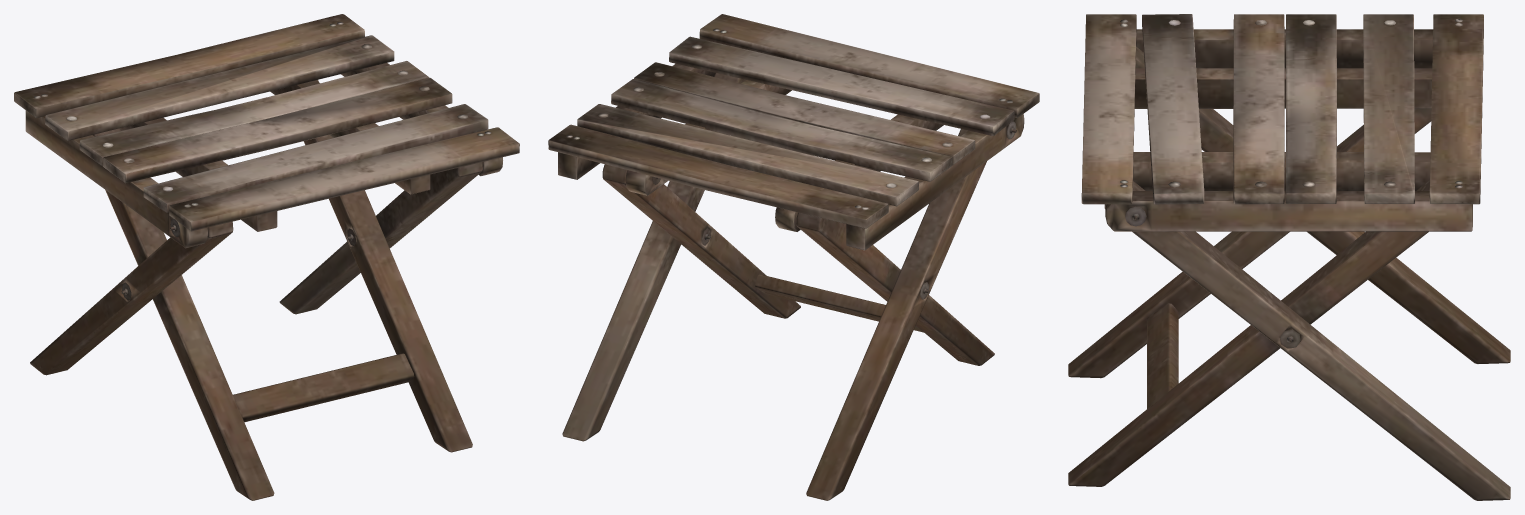
The model's file is folding_wooden_stool.glb.
3 renders of one model, left to right at view 1: azimuth 30°, elevation 25°; view 2: azimuth 150°, elevation 25°; view 3: azimuth 270°, elevation 25°, orthographic. The views are drawn at different scales.
Visible parts, largest first — view 1: folding_wooden_stool; view 2: folding_wooden_stool; view 3: folding_wooden_stool.
Part boxes in pixels (x1=…): folding_wooden_stool: x1=14, y1=14, x2=519, y2=500; folding_wooden_stool: x1=548, y1=14, x2=1039, y2=500; folding_wooden_stool: x1=1068, y1=14, x2=1510, y2=500.
Bounding box in the file's own units: 0.527 × 0.442 × 0.5471.
Materials: 1 (1 with a texture image).
